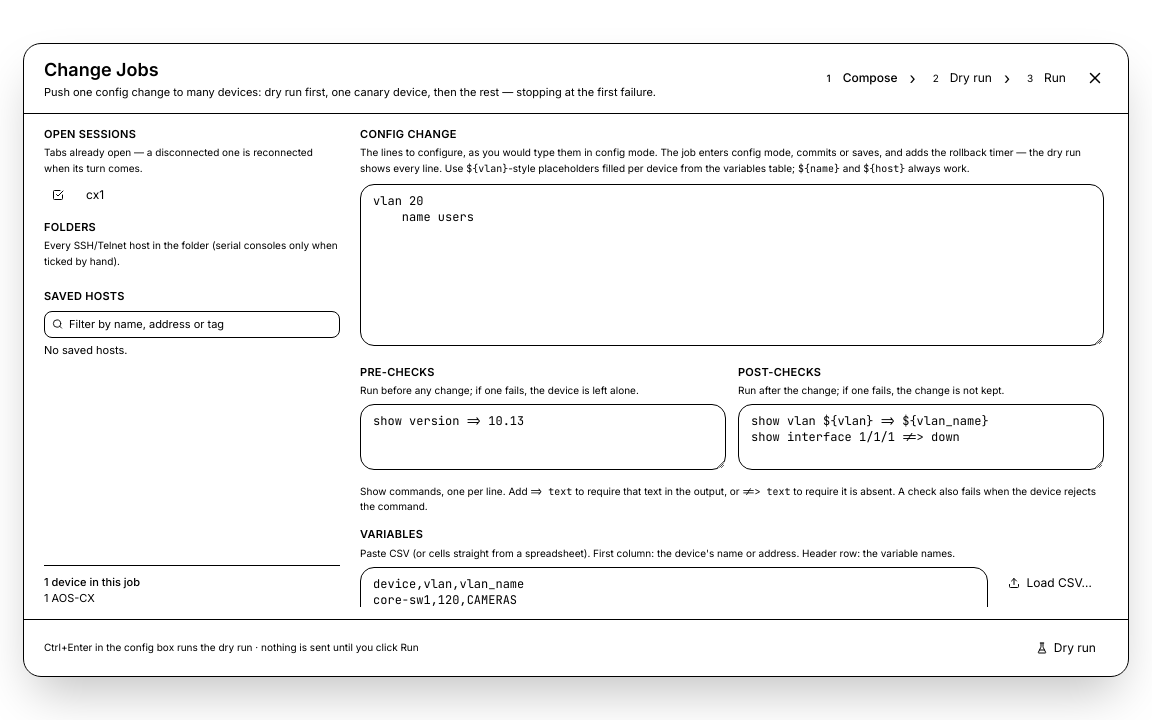
Test: ChangeJobs › takes a block and device handed over by the Config Editor (Send safely)
Expected: the text "1 device in this job" is shown, [44,575,140,589]
Click the button "Dry run" at [1066, 648], box [1024,632,1108,664]
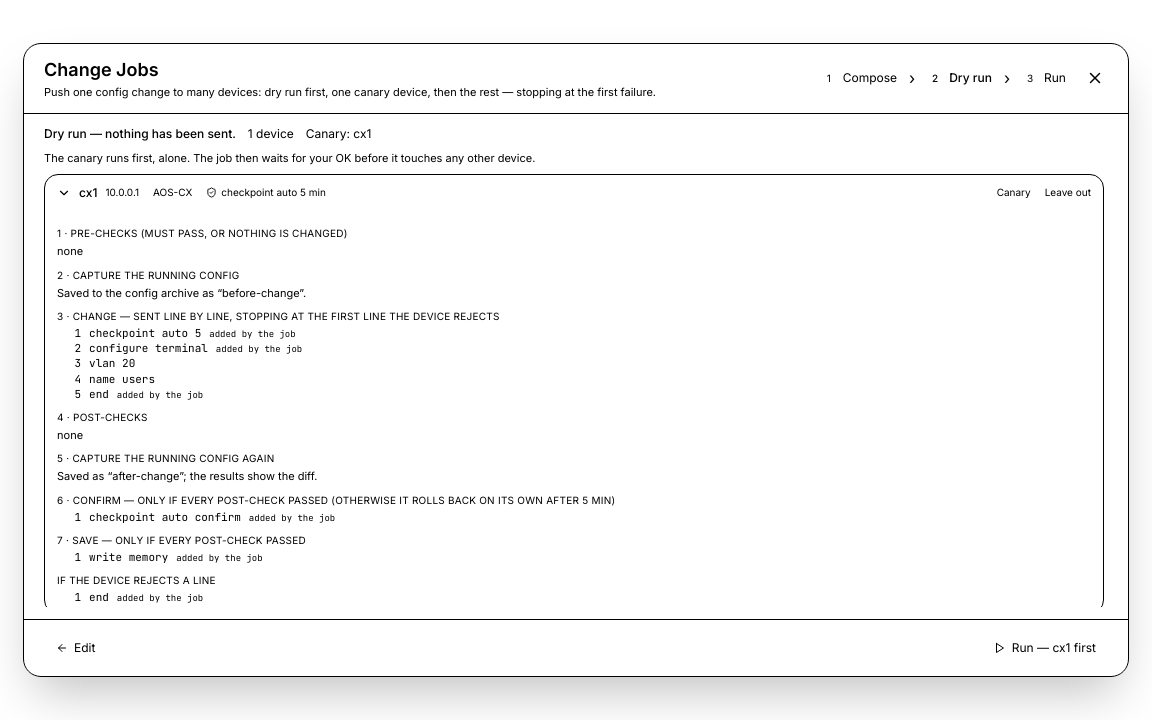
Now the text "checkpoint auto 5" is shown, box [89,326,201,341]
